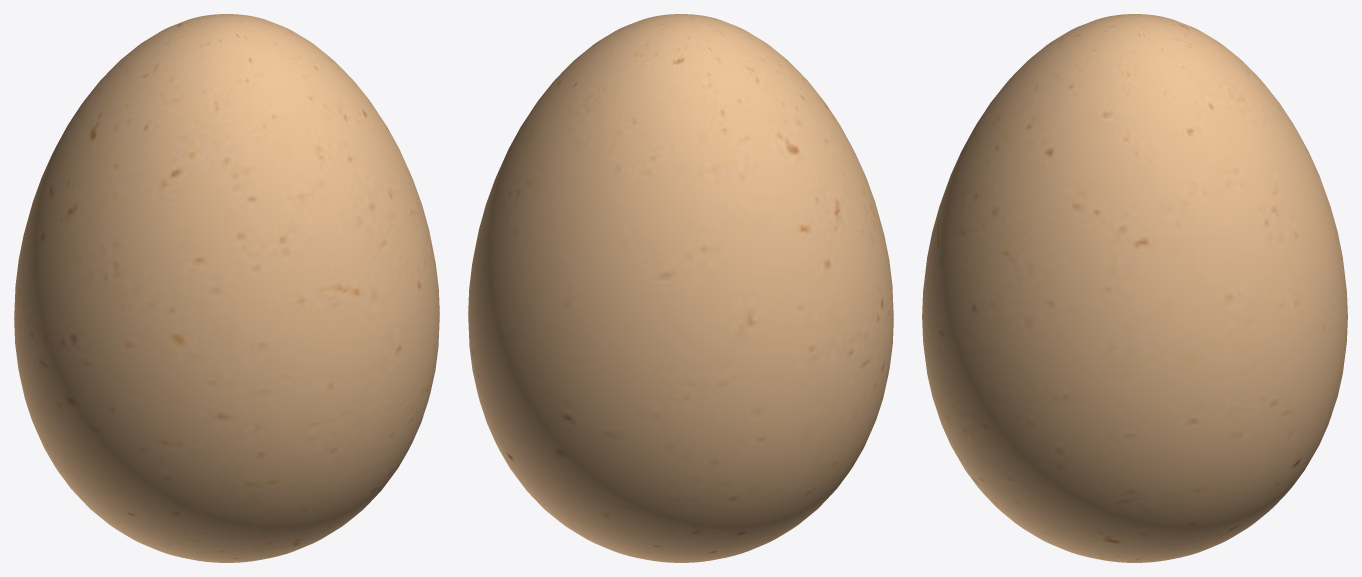
File: An_Egg_ByRasmus.LandhallOnSketchfab_Materials.fbx
3 renders of one model, left to right at view 1: azimuth 30°, elevation 25°; view 2: azimuth 150°, elevation 25°; view 3: azimuth 270°, elevation 25°, orthographic.
Parts seen in each view (by area): view 1: GLTFNode_3; view 2: GLTFNode_3; view 3: GLTFNode_3.
Boxes of the visible parts, bbox=[...] form: GLTFNode_3: bbox=[14, 14, 439, 562]; GLTFNode_3: bbox=[468, 14, 893, 562]; GLTFNode_3: bbox=[922, 14, 1347, 562].
Bounding box in the file's own units: 2 × 2.69 × 2.
1 material, 1 textured.
